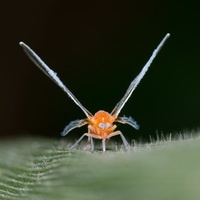insect: (19, 33, 169, 150)
